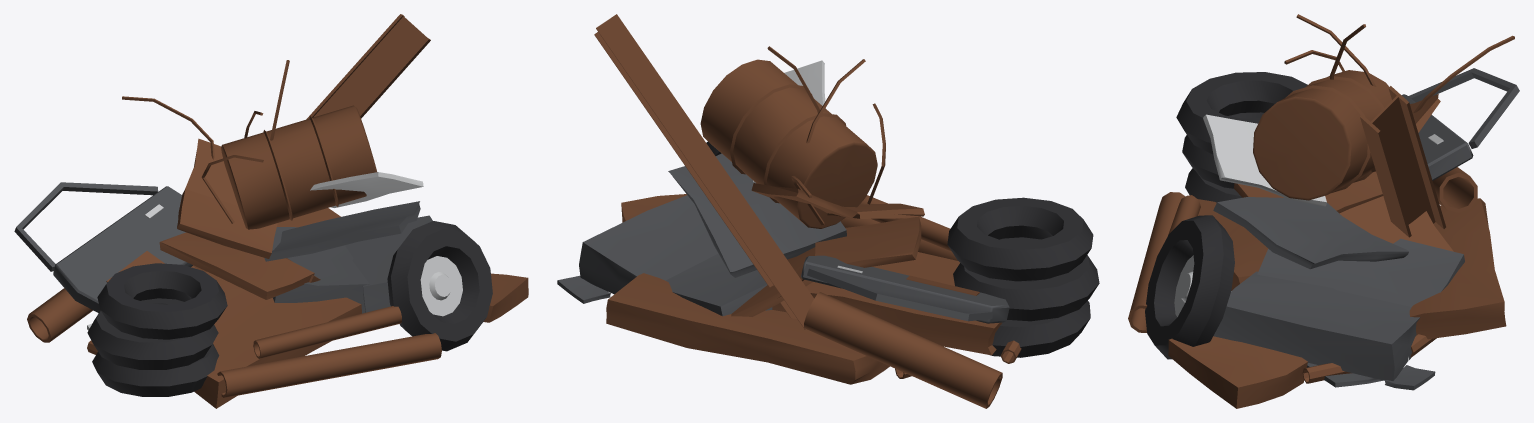
The model's file is scrap_pile_a.glb.
The picture shows the model from 3 angles, left to right: view 1: azimuth 30°, elevation 25°; view 2: azimuth 150°, elevation 25°; view 3: azimuth 270°, elevation 25°; orthographic projection. The views are drawn at different scales.
Parts seen in each view (by area): view 1: scrap_pile_a; view 2: scrap_pile_a; view 3: scrap_pile_a.
Boxes of the visible parts, box(x1,y1,x2,y2) form: scrap_pile_a: box(14, 14, 528, 408); scrap_pile_a: box(557, 14, 1099, 408); scrap_pile_a: box(1128, 14, 1519, 408).
Size of the model in its own units: 3.06 by 1.78 by 2.12.
